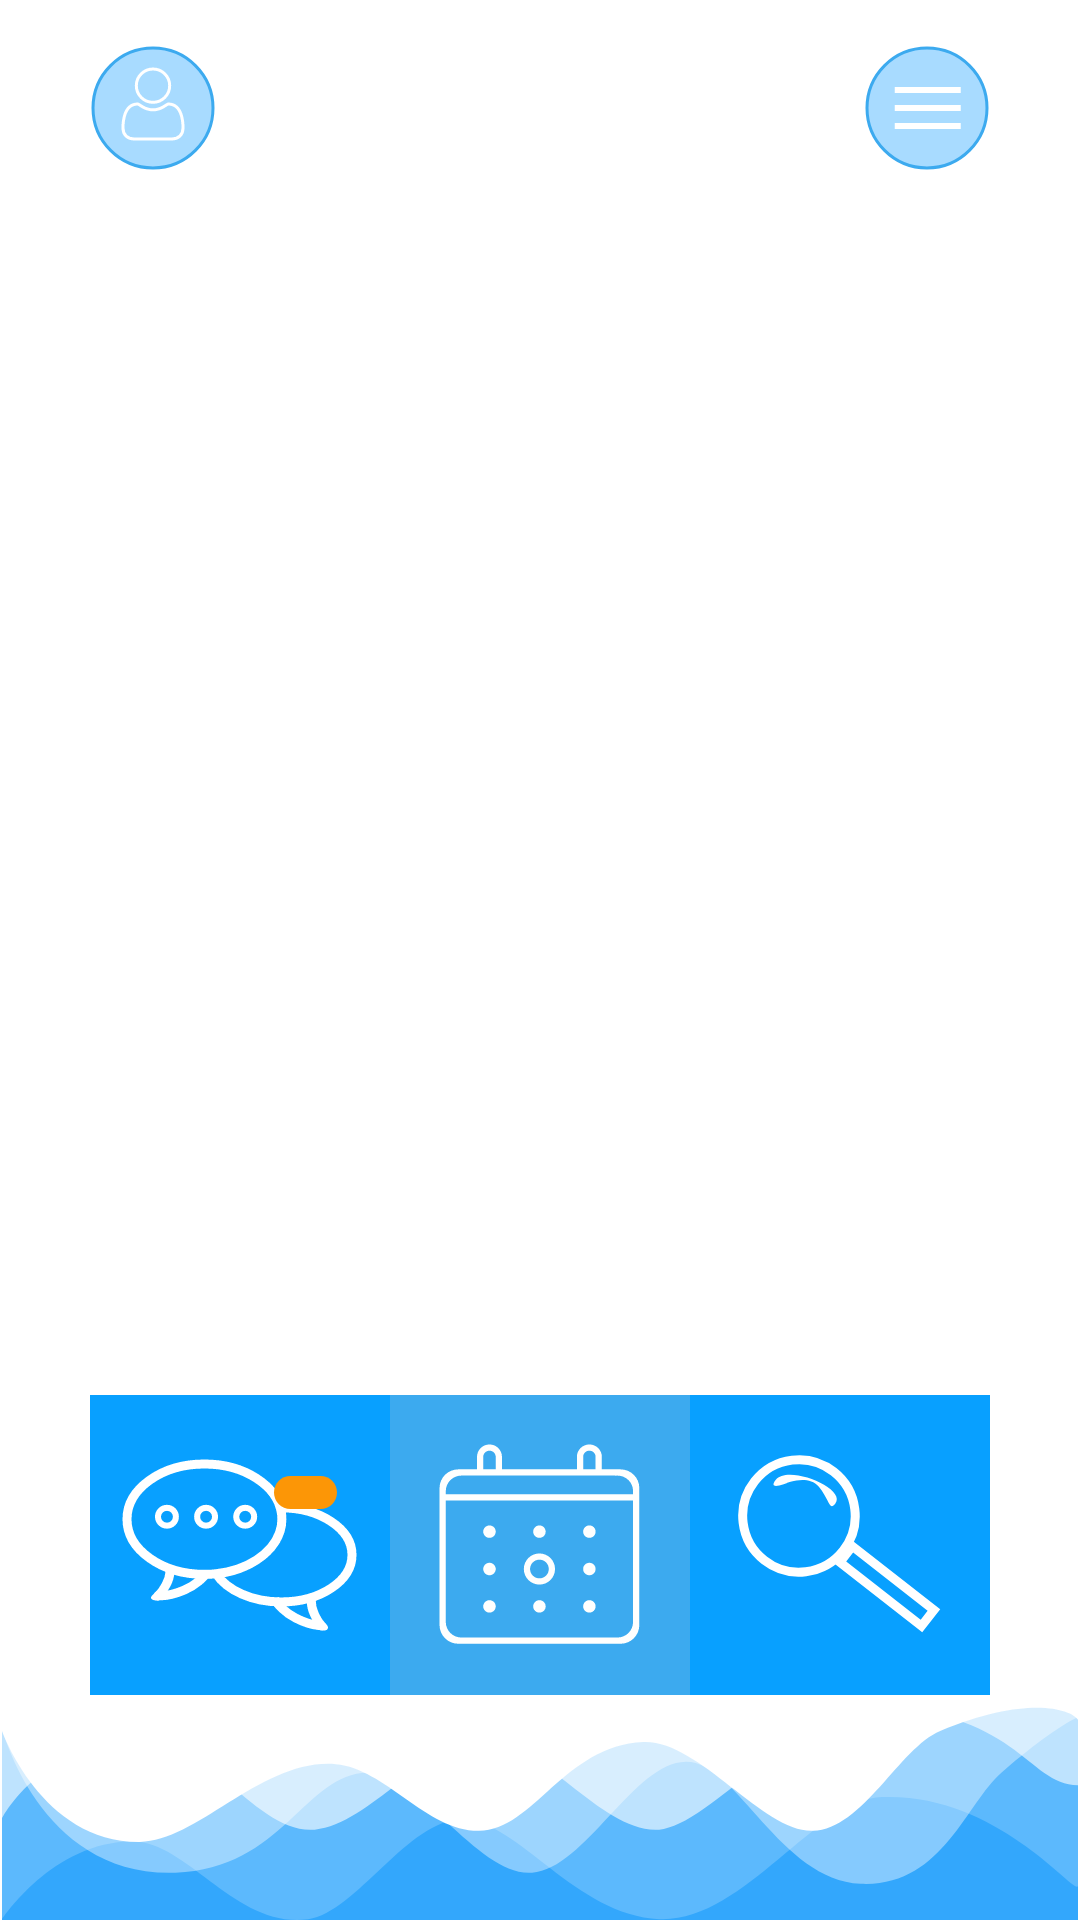

Icon click points for this 1080 x 1920 phone screenshot, format (x,y):
gotoprofile: (153,108)
gotosetting: (927,108)
iconcalendarwhite: (539,1544)
iconchatwhite: (239,1545)
iconfindwhite: (839,1543)
